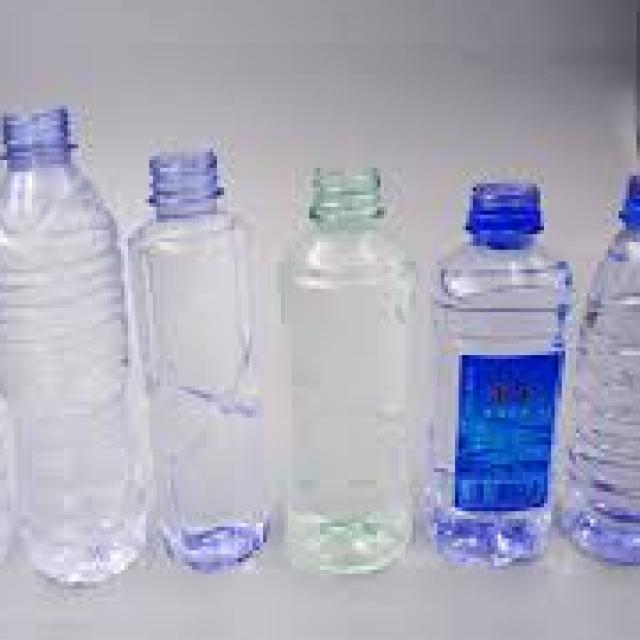organic: (1, 101, 150, 595), (124, 139, 283, 584), (406, 179, 568, 584), (270, 169, 419, 577), (557, 176, 637, 587)
